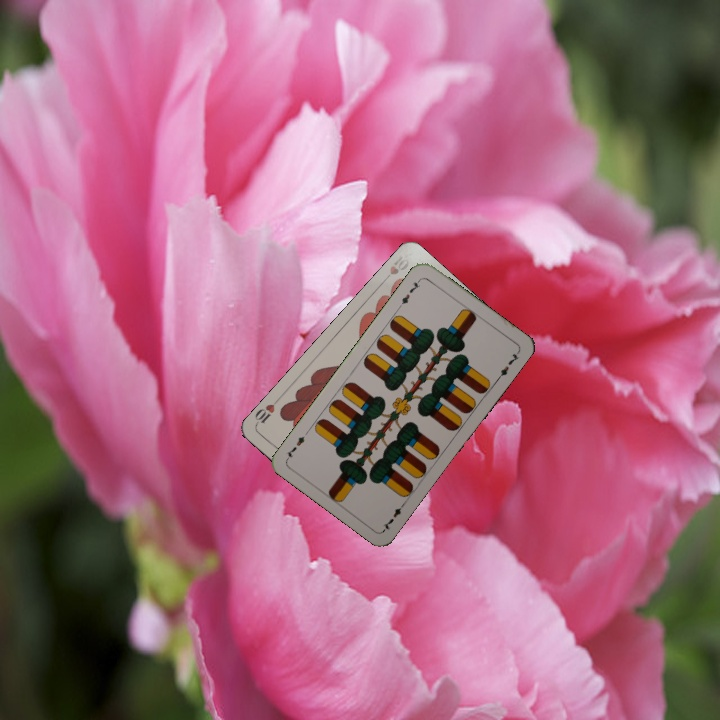E7: (379, 498, 409, 533), (395, 275, 424, 310)
H10: (378, 252, 412, 286)
